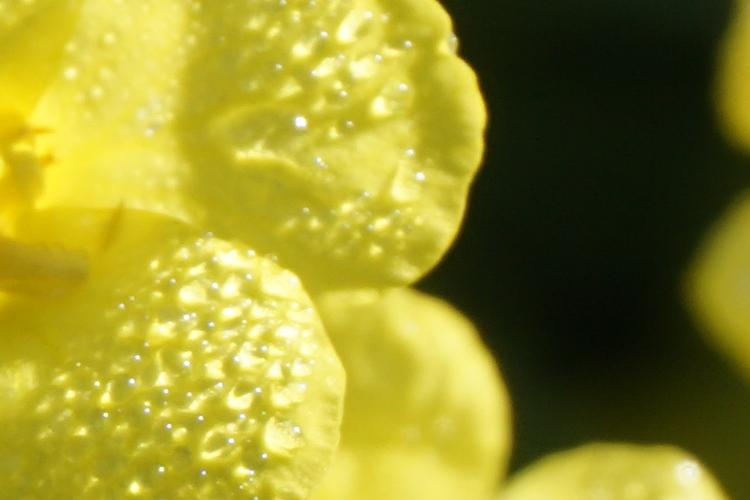yellow: (3, 3, 528, 499)
